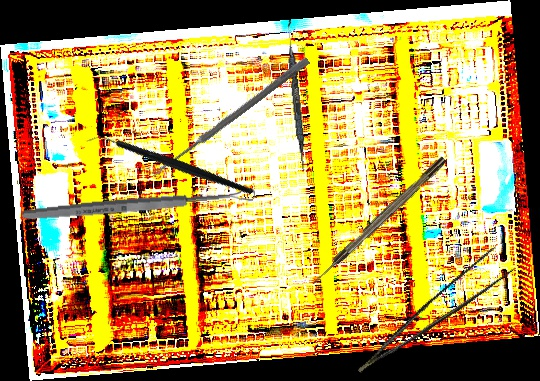Chopper: (84, 85, 255, 246)
Hook Surgical: (309, 155, 449, 287)
Spatula Surgical: (282, 19, 310, 172)
Surgical Spoon: (150, 55, 311, 180), (21, 187, 256, 223)
Tissue Forceps: (341, 243, 519, 374)
